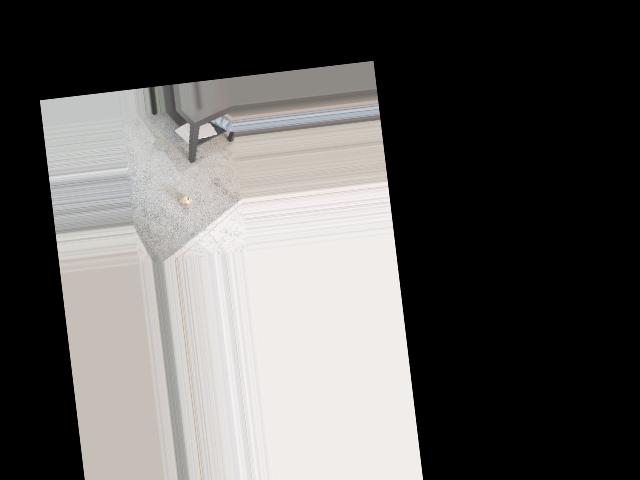onion: (174, 193, 193, 210)
